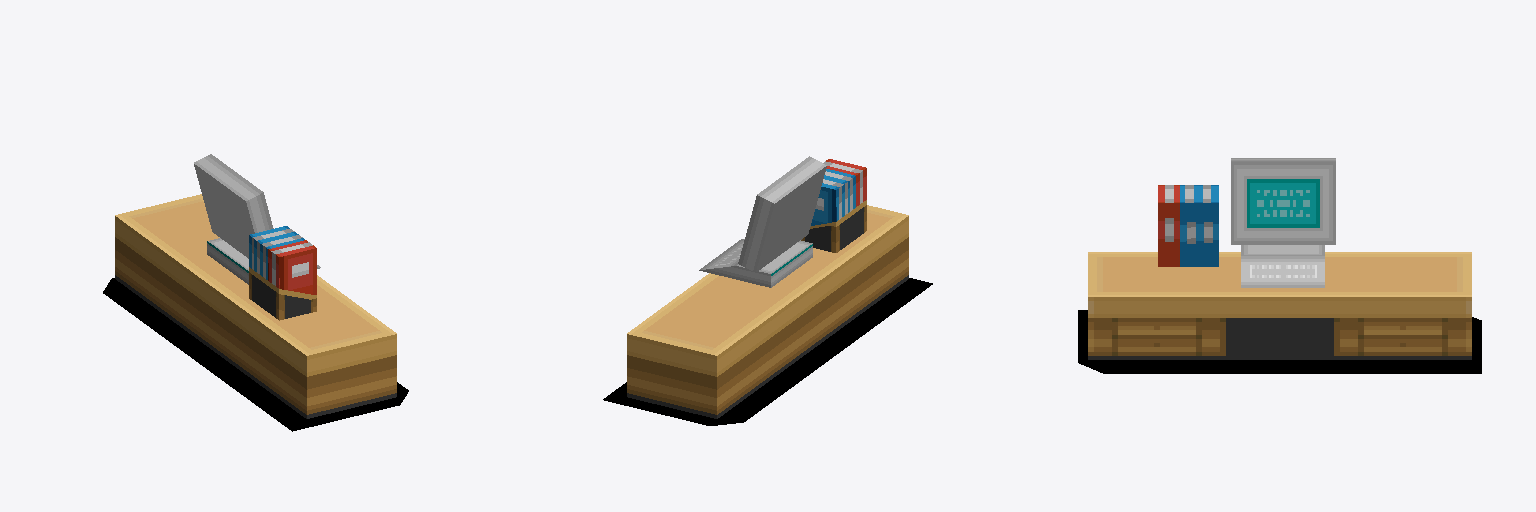
The picture shows the model from 3 angles: view 1: azimuth 30°, elevation 25°; view 2: azimuth 150°, elevation 25°; view 3: azimuth 270°, elevation 25°; orthographic projection.
Parts seen in each view (by area): view 1: polygon1, polygon2, polygon0, polygon3, polygon4; view 2: polygon1, polygon2, polygon0, polygon4, polygon3; view 3: polygon1, polygon2, polygon0, polygon4, polygon3.
Boxes of the visible parts, x1,y1,x2,y2 form: polygon1: [115, 194, 396, 418]; polygon2: [194, 154, 320, 284]; polygon0: [103, 278, 408, 431]; polygon3: [268, 240, 316, 294]; polygon4: [249, 226, 304, 279]; polygon1: [627, 200, 908, 418]; polygon2: [699, 156, 826, 287]; polygon0: [603, 278, 932, 425]; polygon4: [811, 169, 855, 225]; polygon3: [823, 159, 866, 206]; polygon1: [1088, 252, 1471, 359]; polygon2: [1231, 158, 1335, 287]; polygon0: [1078, 310, 1481, 373]; polygon4: [1180, 185, 1218, 266]; polygon3: [1158, 185, 1179, 266].
Bounding box in the file's own units: 4.29 × 5.42 × 11.57.
5 materials, 4 textured.